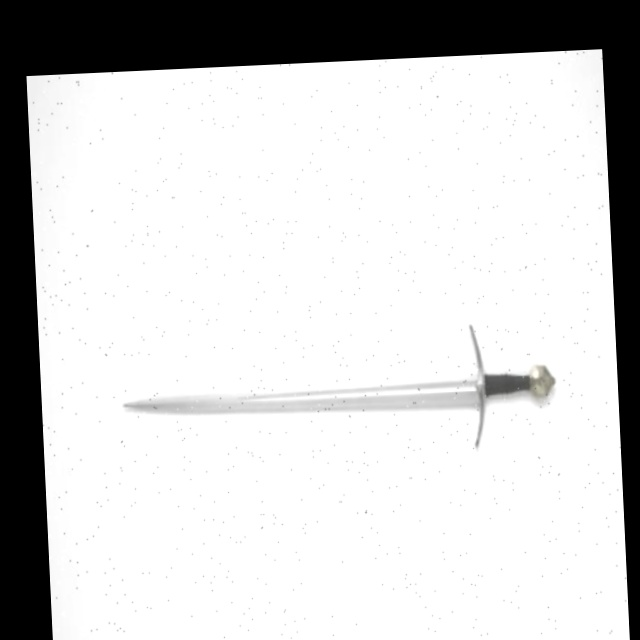Sharp-Object: (103, 359, 564, 440)
